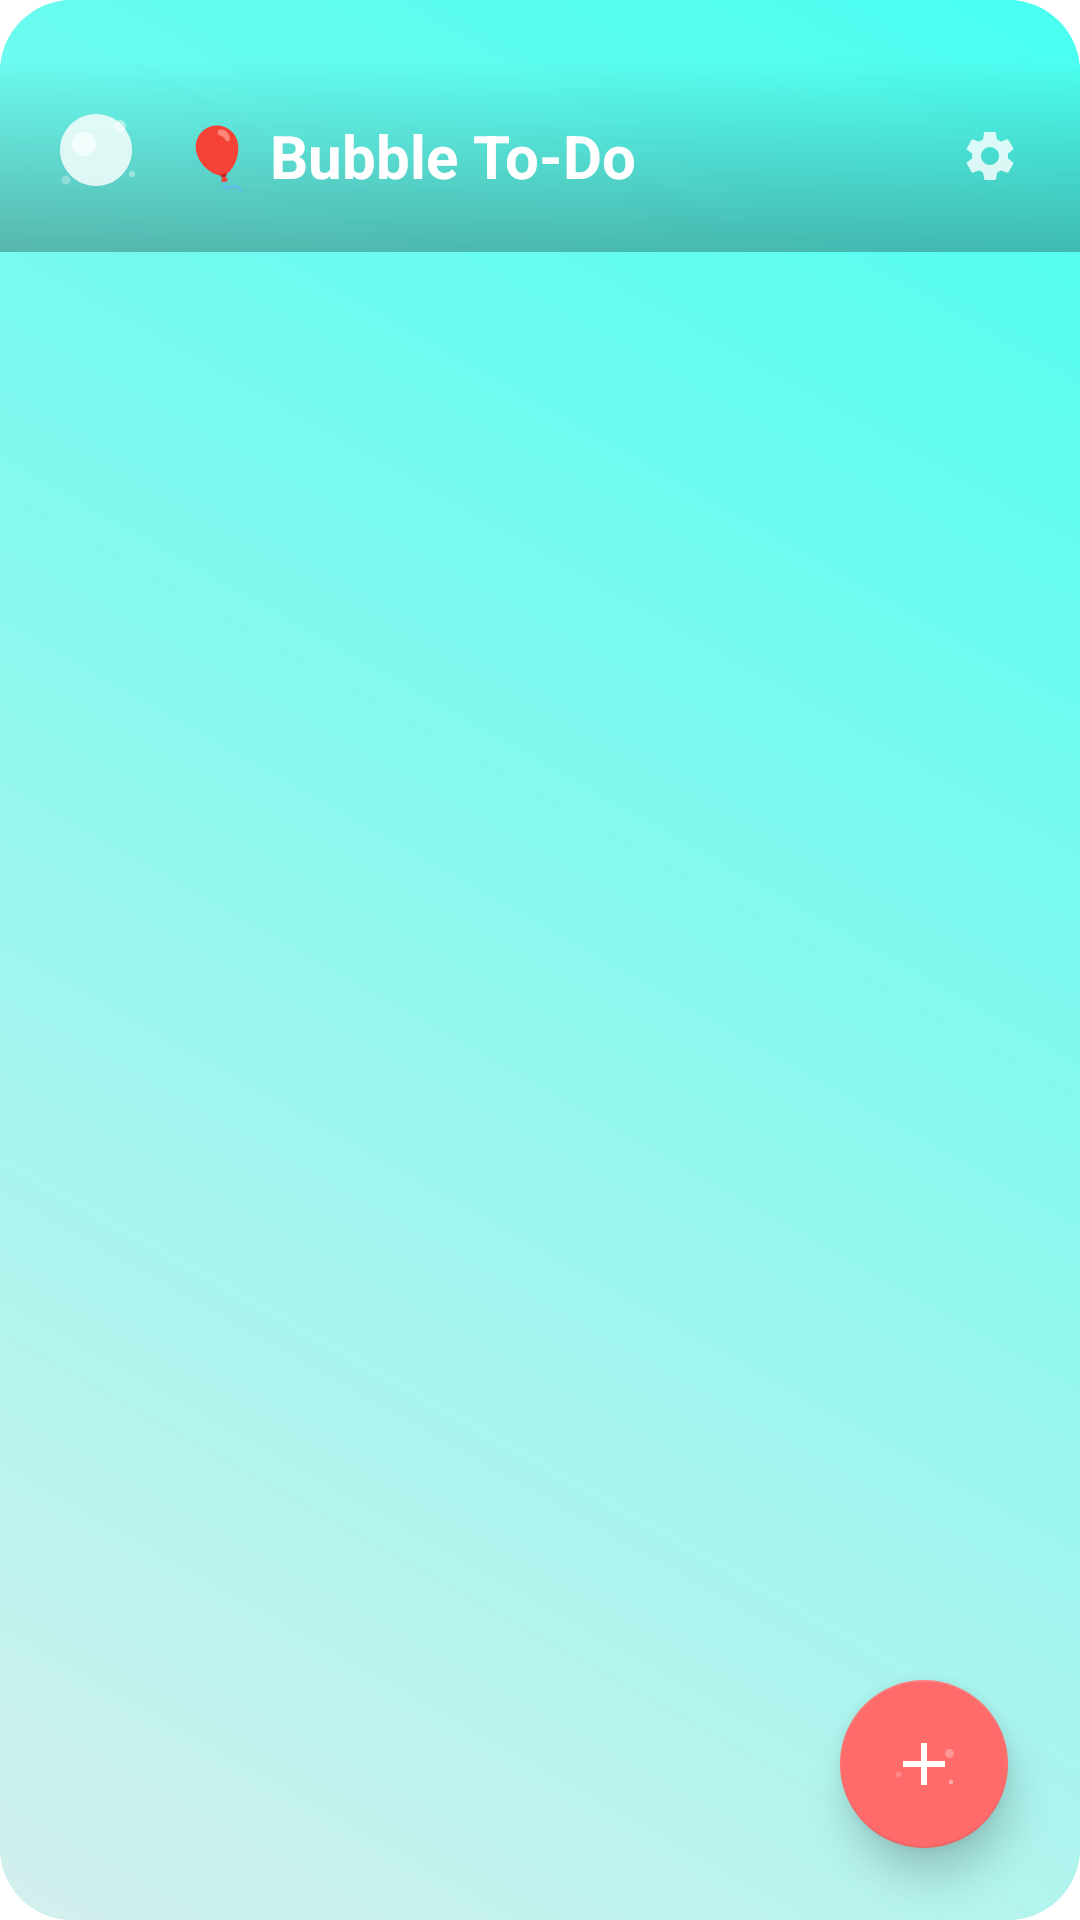

Locate icon controls on the screen. Image size 1080x1920, boxes as (x1, y1, x2, y2).
add bubble: (840, 1680, 1008, 1848)
settings: (948, 114, 1032, 180)
